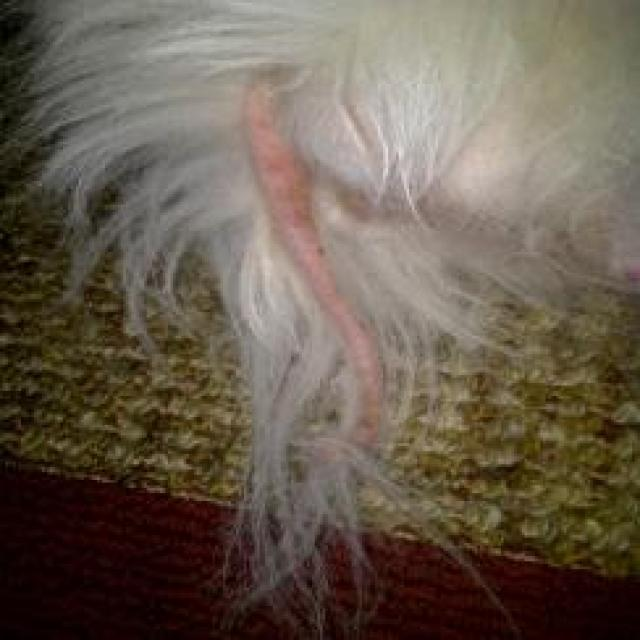fungal infection: (222, 75, 398, 446)
